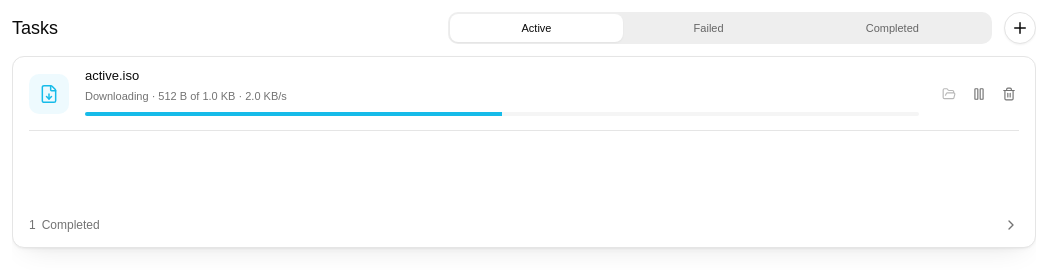
Test: ControlPanel task views › keeps translated status metadata and surfaces task action errors
The width and height of the screenshot is (1048, 270).
Expected: the text "Downloading · 512 B of 1.0 KB · 2.0 KB/s" is shown, [85,90,287,102]
Click the button named "Pause active.iso". click: {"x": 979, "y": 94}
box: [965,80,993,108]
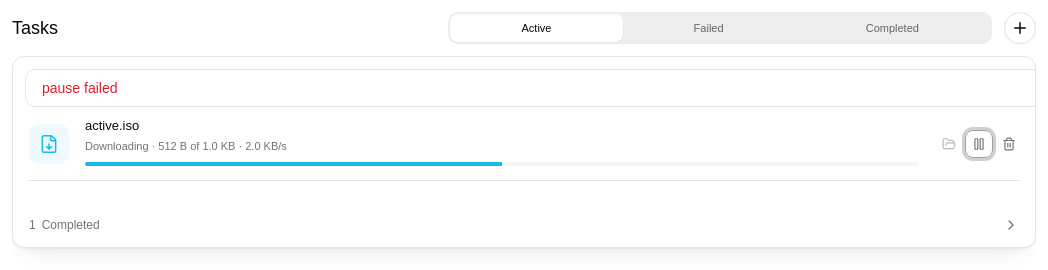
Expected: the text "pause failed" is shown, [42,80,118,96]
